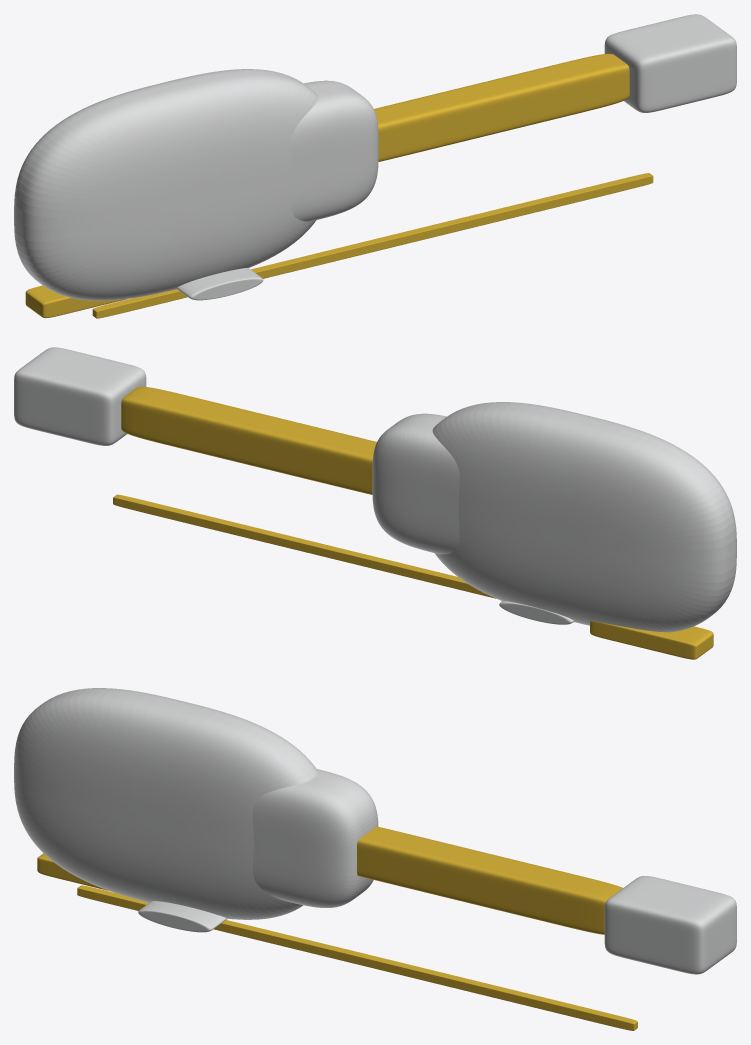
File: acoustic_guitar_sq.glb
3 views of the same model, one above another, from view 1: azimuth 30°, elevation 25°; view 2: azimuth 150°, elevation 25°; view 3: azimuth 330°, elevation 25° (orthographic).
Visible parts, largest first — view 1: superquadric_0, superquadric_2, superquadric_1, superquadric_3, superquadric_6, superquadric_4, superquadric_5; view 2: superquadric_0, superquadric_2, superquadric_1, superquadric_3, superquadric_6, superquadric_5, superquadric_4; view 3: superquadric_0, superquadric_2, superquadric_1, superquadric_3, superquadric_6, superquadric_4, superquadric_5.
Boxes of the visible parts, bbox=[...] form: superquadric_0: bbox=[14, 69, 318, 300]; superquadric_2: bbox=[374, 53, 629, 161]; superquadric_1: bbox=[291, 80, 378, 221]; superquadric_3: bbox=[604, 14, 736, 112]; superquadric_6: bbox=[92, 173, 653, 318]; superquadric_4: bbox=[176, 268, 263, 300]; superquadric_5: bbox=[25, 285, 126, 318]; superquadric_0: bbox=[432, 402, 736, 632]; superquadric_2: bbox=[121, 386, 376, 494]; superquadric_1: bbox=[372, 413, 459, 554]; superquadric_3: bbox=[14, 347, 146, 445]; superquadric_6: bbox=[113, 494, 495, 598]; superquadric_5: bbox=[590, 621, 713, 659]; superquadric_4: bbox=[499, 600, 574, 624]; superquadric_0: bbox=[14, 688, 318, 919]; superquadric_2: bbox=[357, 826, 622, 934]; superquadric_1: bbox=[252, 769, 378, 907]; superquadric_3: bbox=[604, 876, 736, 974]; superquadric_6: bbox=[77, 885, 637, 1030]; superquadric_4: bbox=[138, 901, 227, 932]; superquadric_5: bbox=[37, 853, 108, 890].
Bounding box in the file's own units: 1 × 0.2785 × 0.1196.
